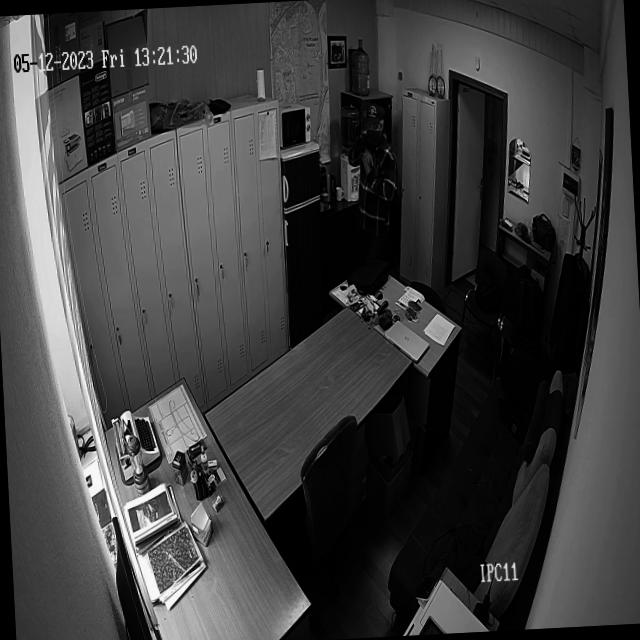gun: (370, 144, 380, 175)
person with a gun: (348, 93, 405, 294)
